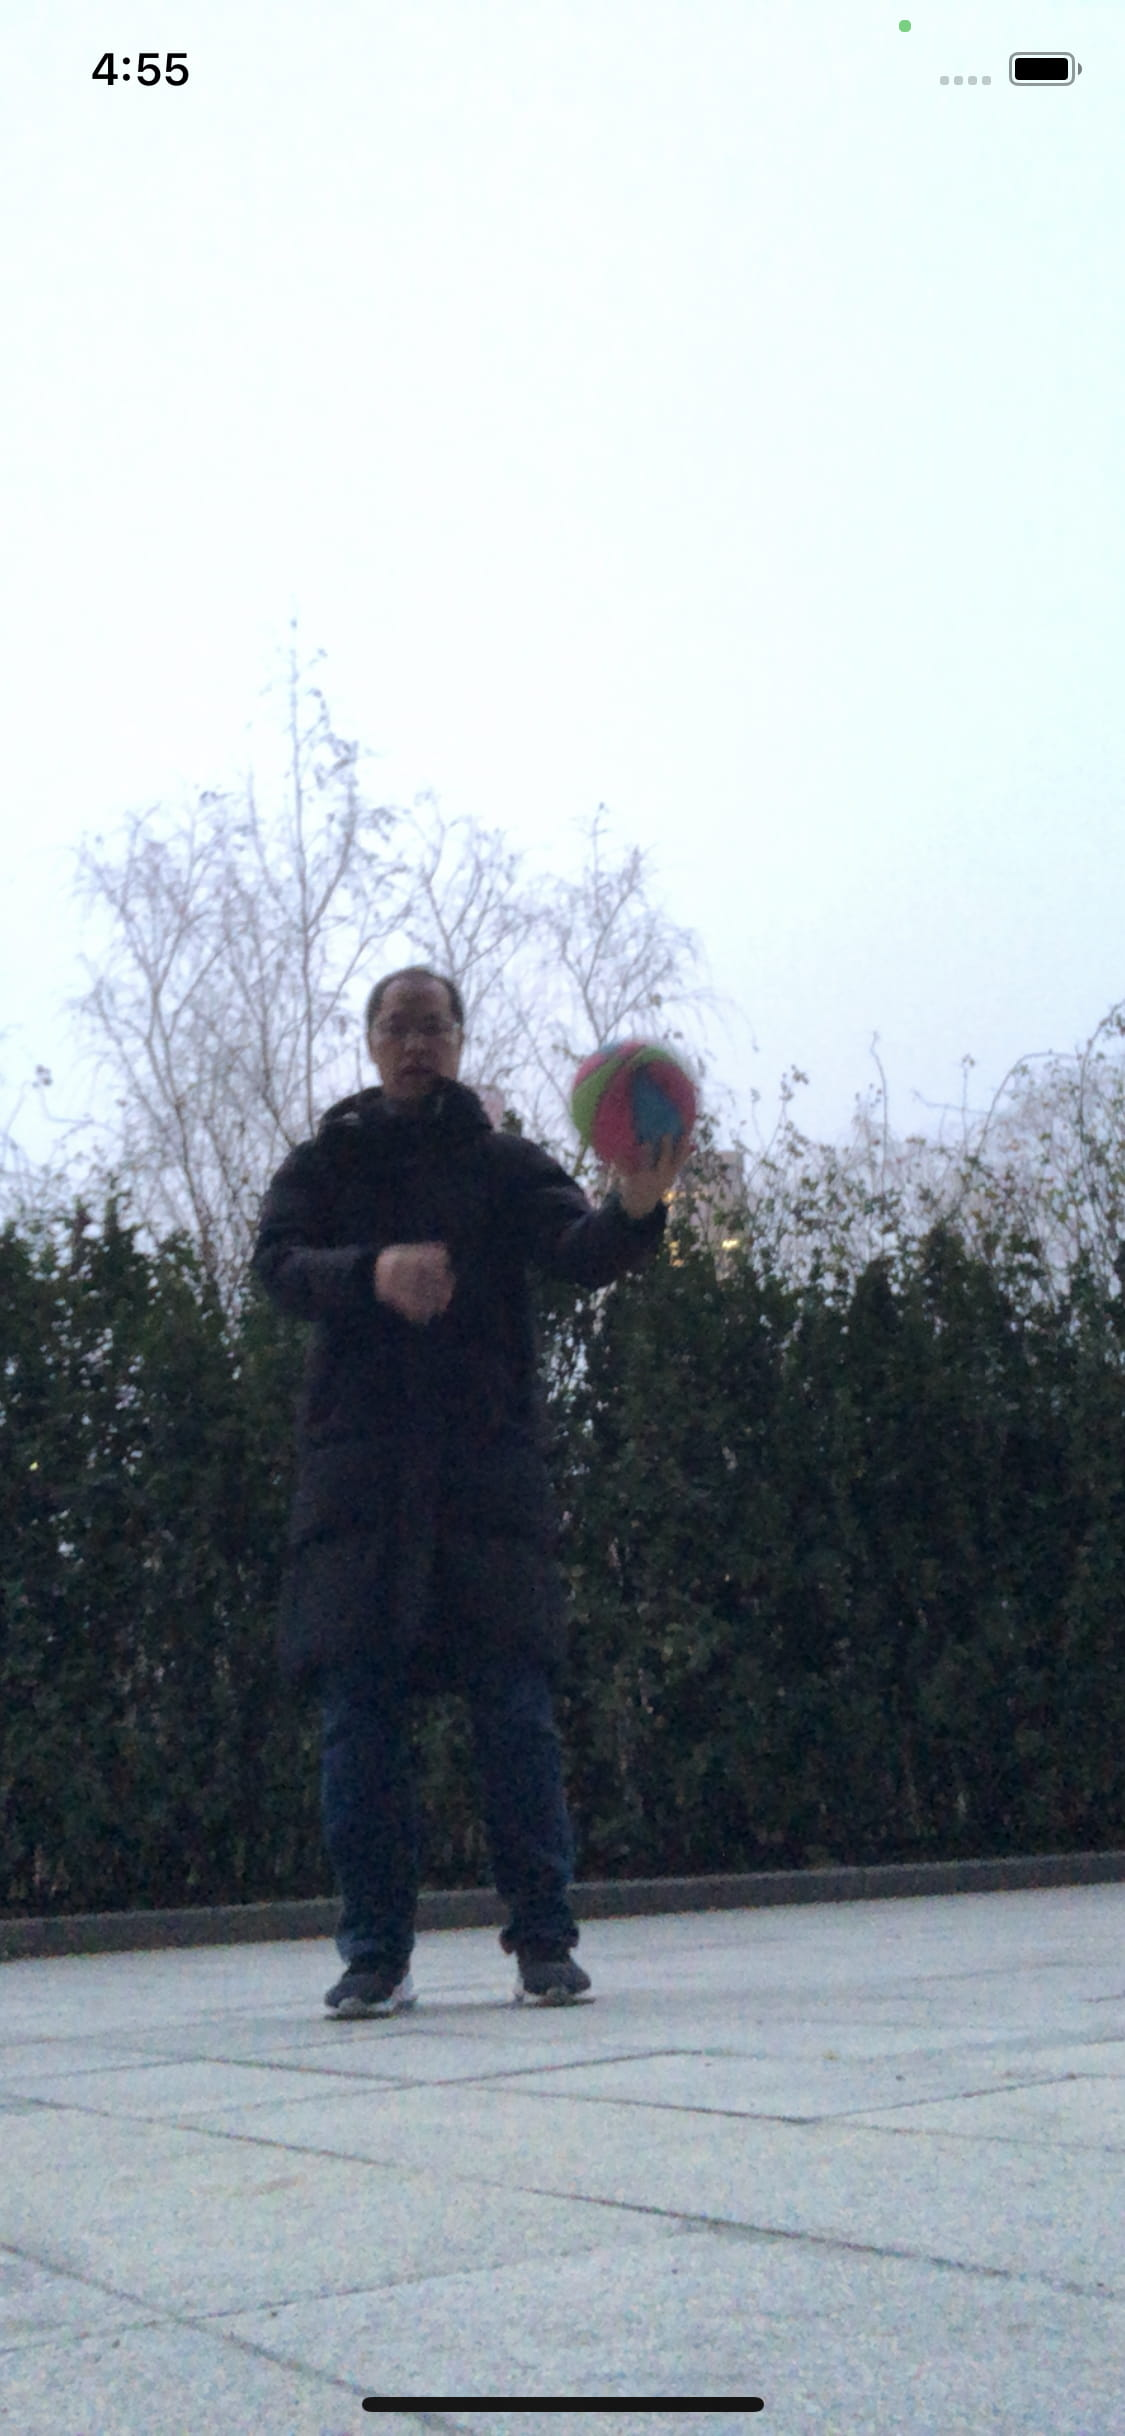ball: (572, 1041, 701, 1173)
